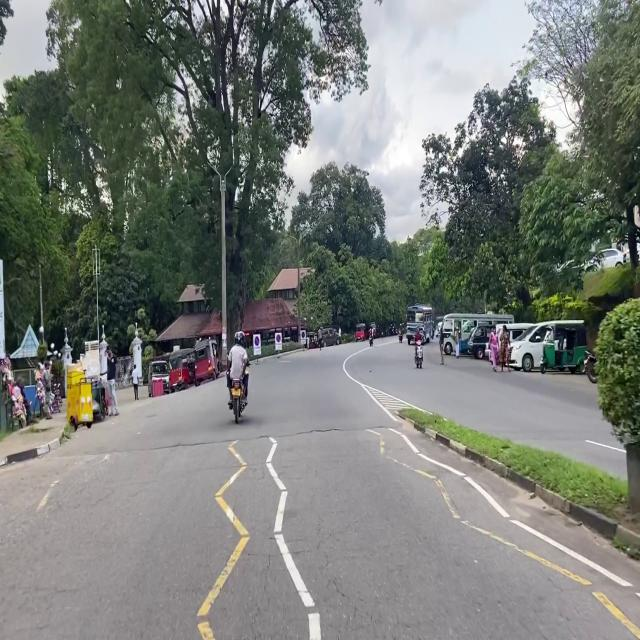bus: (442, 313, 514, 355), (406, 304, 434, 344)
car: (510, 322, 549, 372), (149, 361, 168, 395), (321, 328, 339, 346), (436, 321, 442, 337)
motorcycle: (231, 379, 246, 423), (583, 350, 597, 383), (414, 341, 423, 369), (399, 329, 403, 343), (369, 334, 373, 347)
person: (227, 331, 248, 404), (107, 347, 119, 415), (42, 361, 51, 419), (488, 325, 499, 372), (500, 324, 510, 371), (132, 364, 138, 401), (439, 325, 444, 365), (414, 326, 422, 346), (454, 327, 459, 358), (318, 328, 322, 349), (338, 327, 341, 344), (307, 333, 310, 350), (369, 326, 373, 338), (399, 324, 402, 333)
three wheeler: (540, 321, 586, 373), (194, 339, 218, 386), (169, 349, 194, 392), (355, 324, 366, 341), (366, 322, 377, 339)
van: (485, 322, 530, 357), (468, 323, 493, 359)
